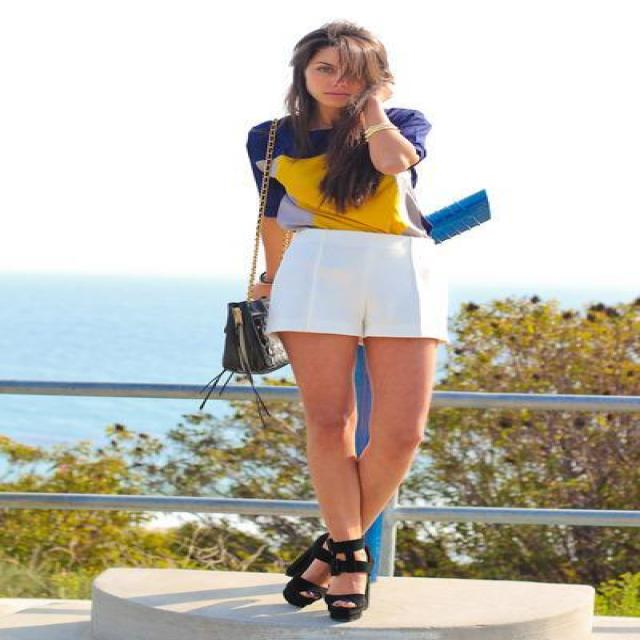bag: (224, 190, 490, 370)
shirt: (247, 107, 436, 235)
shoe: (283, 533, 373, 621)
shorts: (264, 228, 461, 342)
